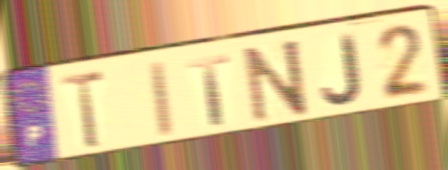2: (375, 23, 432, 103)
I: (148, 58, 175, 140)
J: (319, 32, 364, 108)
N: (241, 36, 312, 126)
T: (59, 68, 108, 152), (186, 51, 233, 128)
